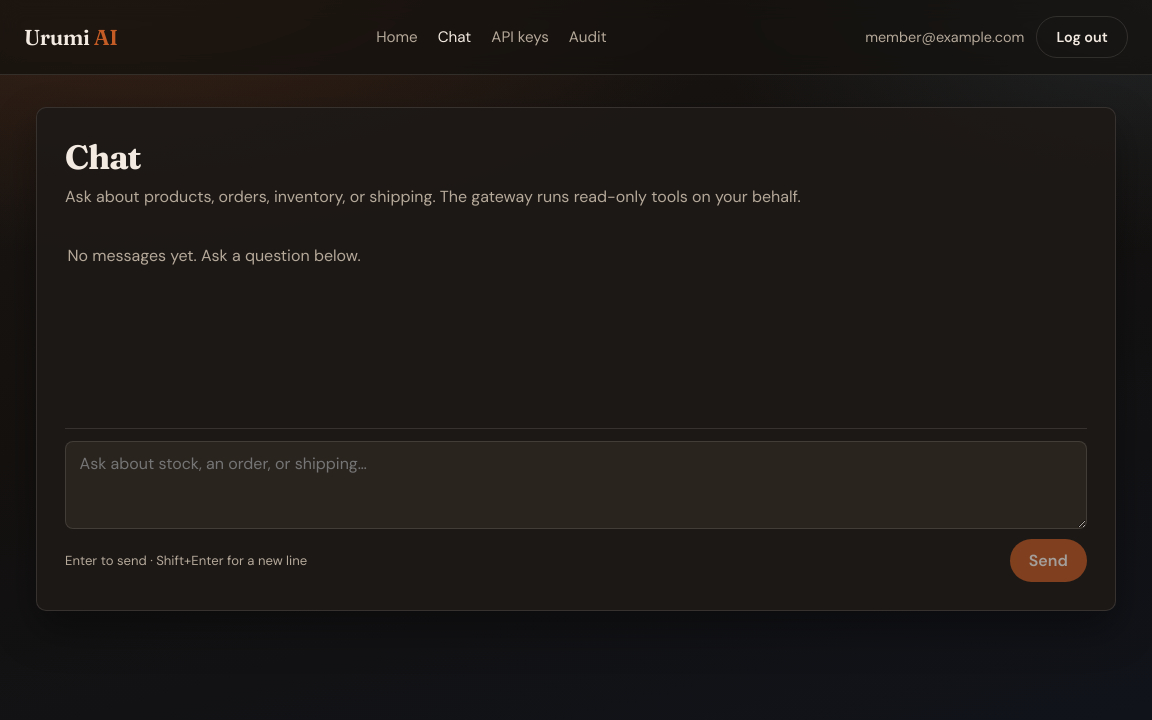
Scenario: dashboard chat › sends POST /chat with credentials and renders the assistant reply
This screenshot has width=1152, height=720.
expect the heading "Chat" is shown: met, box [65,136,140,178]
Type "What is in stock for ABC?" into the text box named "message". click: (576, 485)
box: [65,441,1087,529]
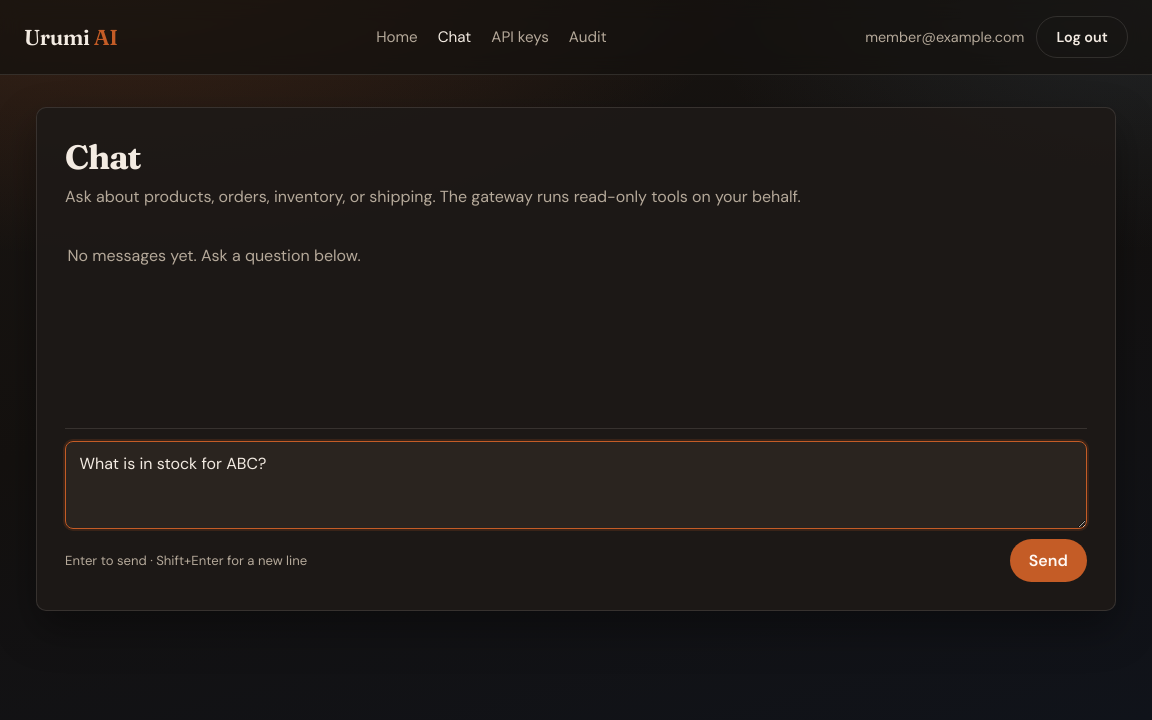
Click the button "Send". click: (1048, 561)
box: [1010,539,1087,582]
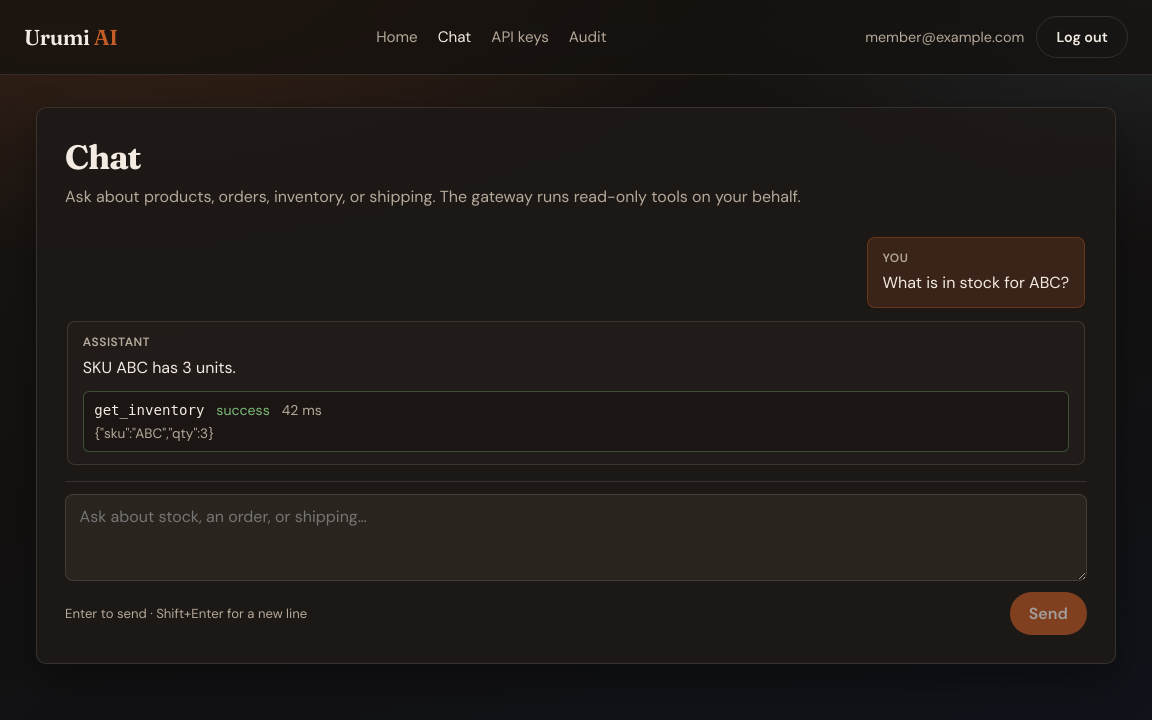
expect the text "SKU ABC has 3 units." is shown: met, box [83,357,236,378]
expect the text "What is in stock for ABC?" is shown: met, box [882,271,1069,295]
expect the text "get_inventory" is shown: met, box [94,402,204,418]
